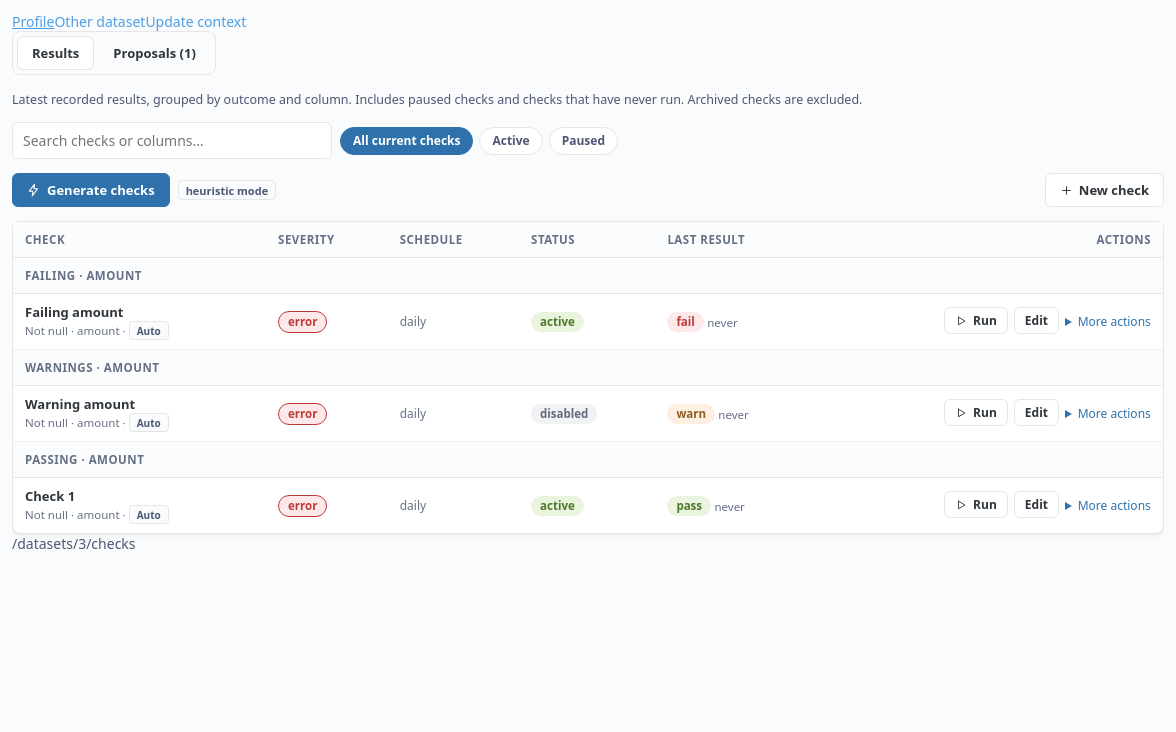
Test case: Check results and proposals › does not show an old dataset's generation feedback or switch its replacement to proposals
The image size is (1176, 732).
Click the button "Generate checks".
click(91, 190)  # box [12,173,170,207]
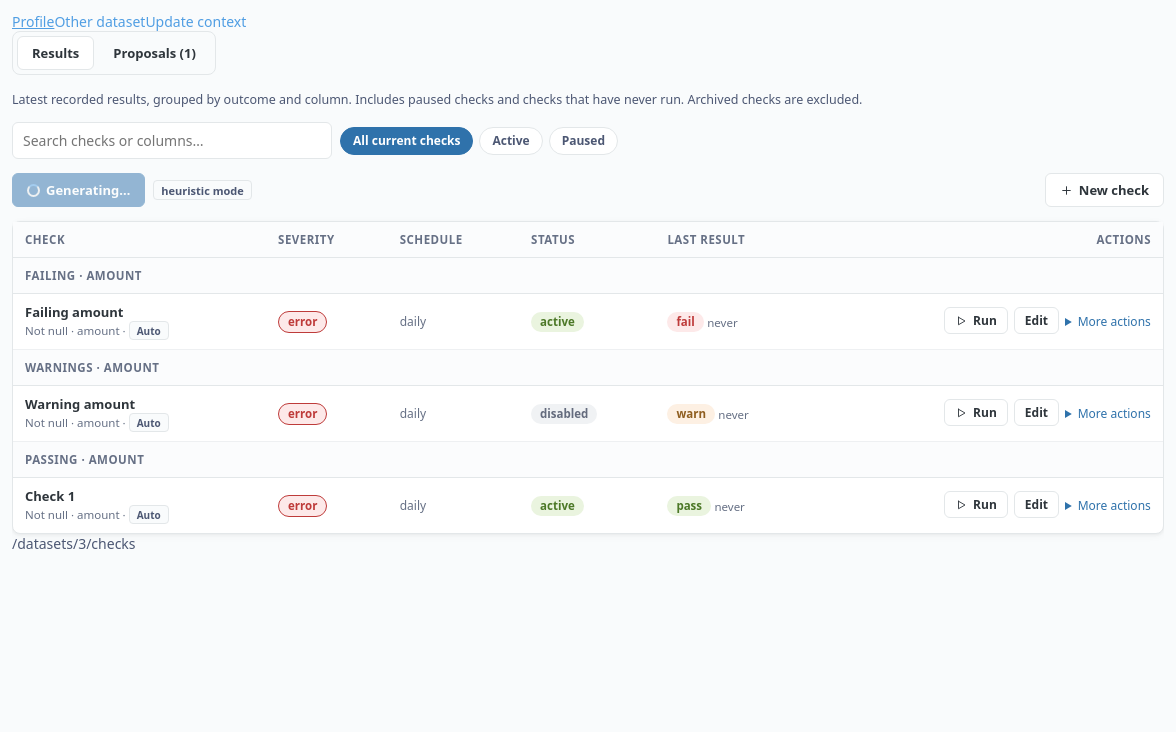
Click the link "Other dataset".
click(100, 22)  # box [54,12,145,31]
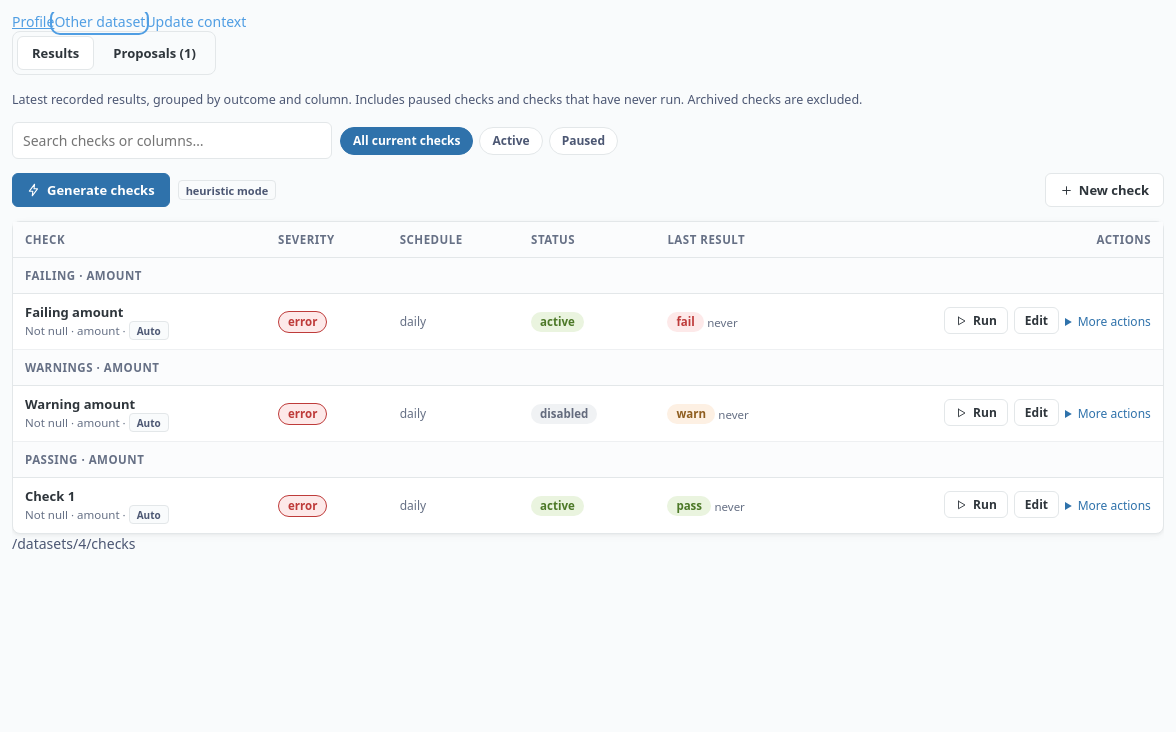
Expected: the text with test id "location" reads "/datasets/4/checks", [12,534,136,553]
